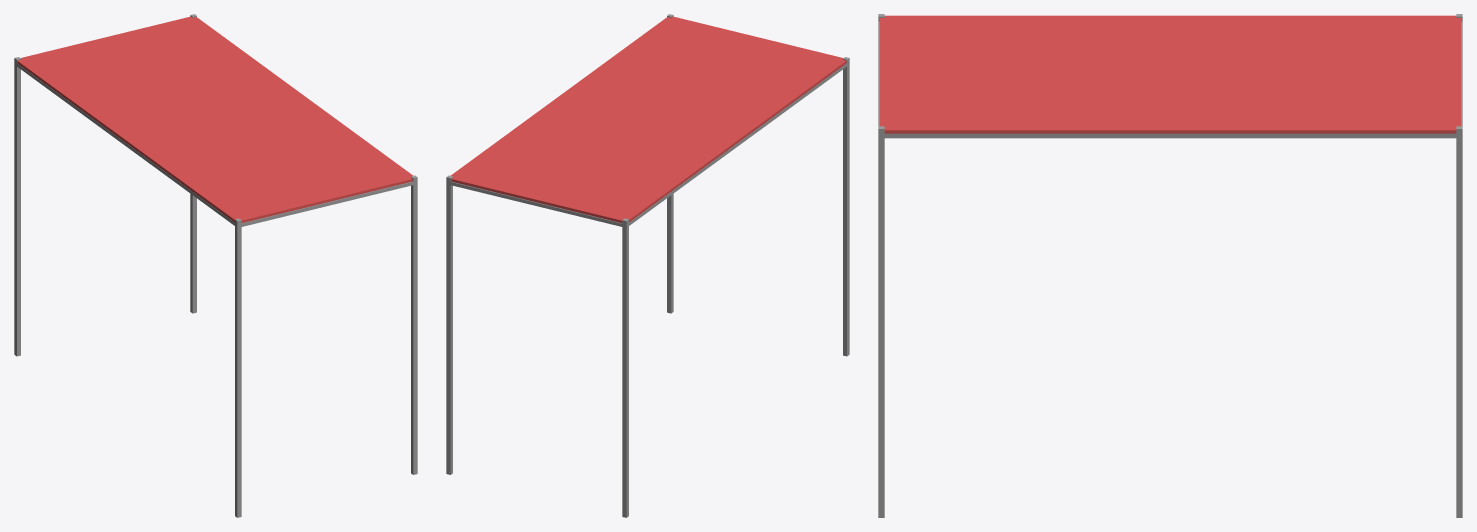
The model's file is SM_Shelf_02a.fbx.
3 renders of one model, left to right at view 1: azimuth 30°, elevation 25°; view 2: azimuth 150°, elevation 25°; view 3: azimuth 270°, elevation 25°, orthographic. The views are drawn at different scales.
Parts seen in each view (by area): view 1: SM_Shelf_02a; view 2: SM_Shelf_02a; view 3: SM_Shelf_02a.
Boxes of the visible parts, x1,y1,x2,y2 form: SM_Shelf_02a: (14, 14, 417, 517); SM_Shelf_02a: (446, 14, 849, 517); SM_Shelf_02a: (878, 14, 1462, 517).
Size of the model in its own units: 197 by 310 by 423.
